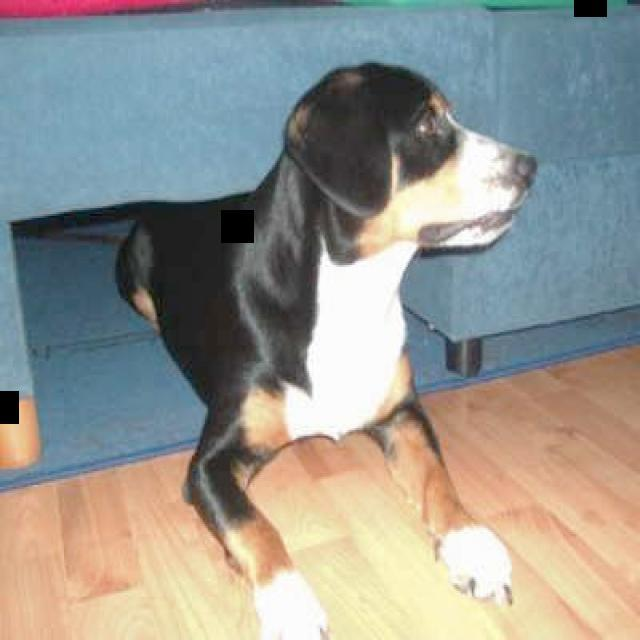adult_dog: (116, 62, 539, 637)
